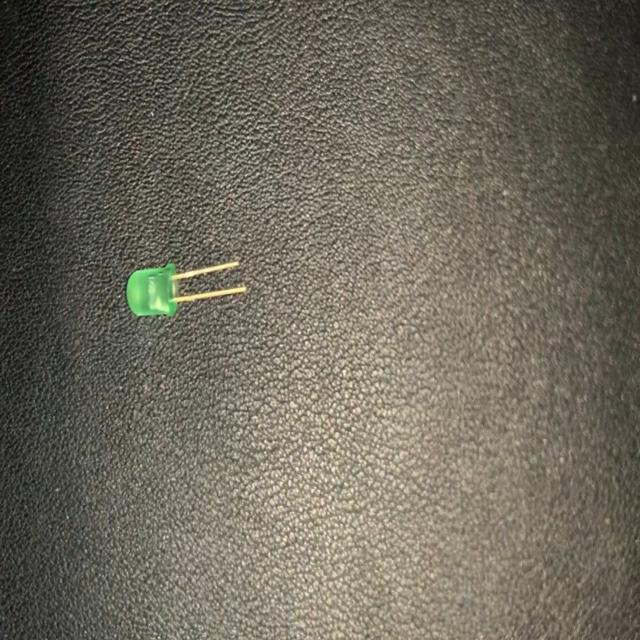LED: (123, 259, 247, 321)
